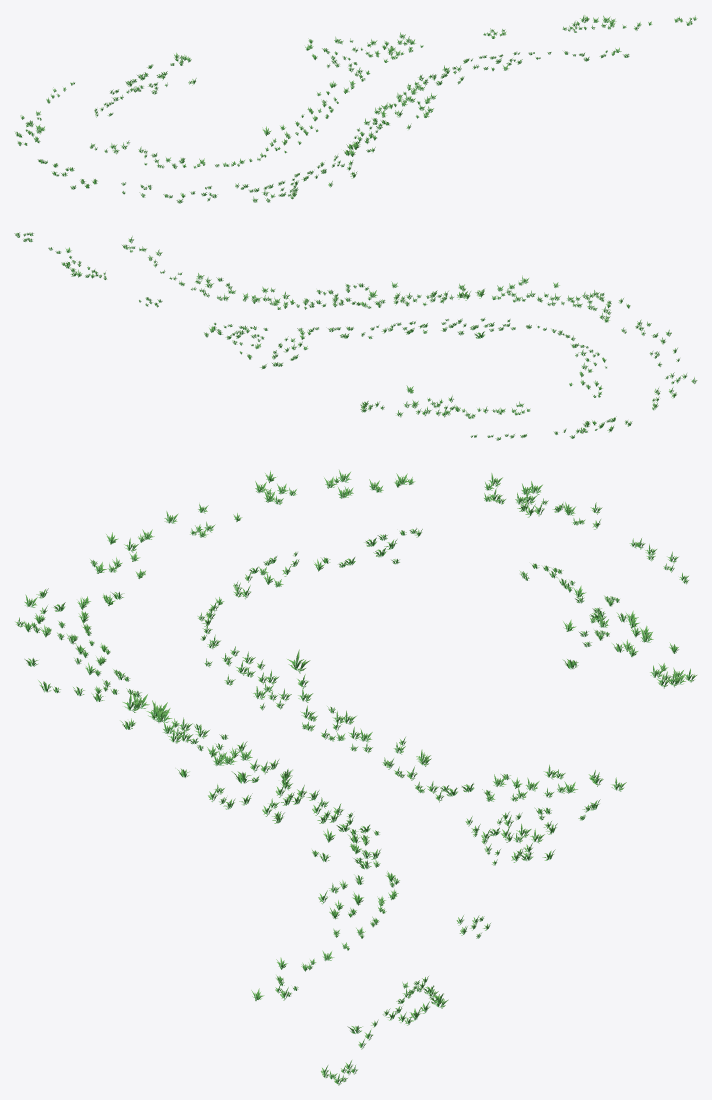
Rendered from Area_11_2.fbx.
3 renders of one model, top to bottom at view 1: azimuth 30°, elevation 25°; view 2: azimuth 150°, elevation 25°; view 3: azimuth 270°, elevation 25°, orthographic. The views are drawn at different scales.
Parts seen in each view (by area): view 1: Area_11_2; view 2: Area_11_2; view 3: Area_11_2.
Boxes of the visible parts, x1=… form: Area_11_2: x1=14, y1=15, x2=697, y2=203; Area_11_2: x1=14, y1=232, x2=697, y2=440; Area_11_2: x1=15, y1=470, x2=696, y2=1085.
Bounding box in the file's own units: 10416 × 155 × 4944.
